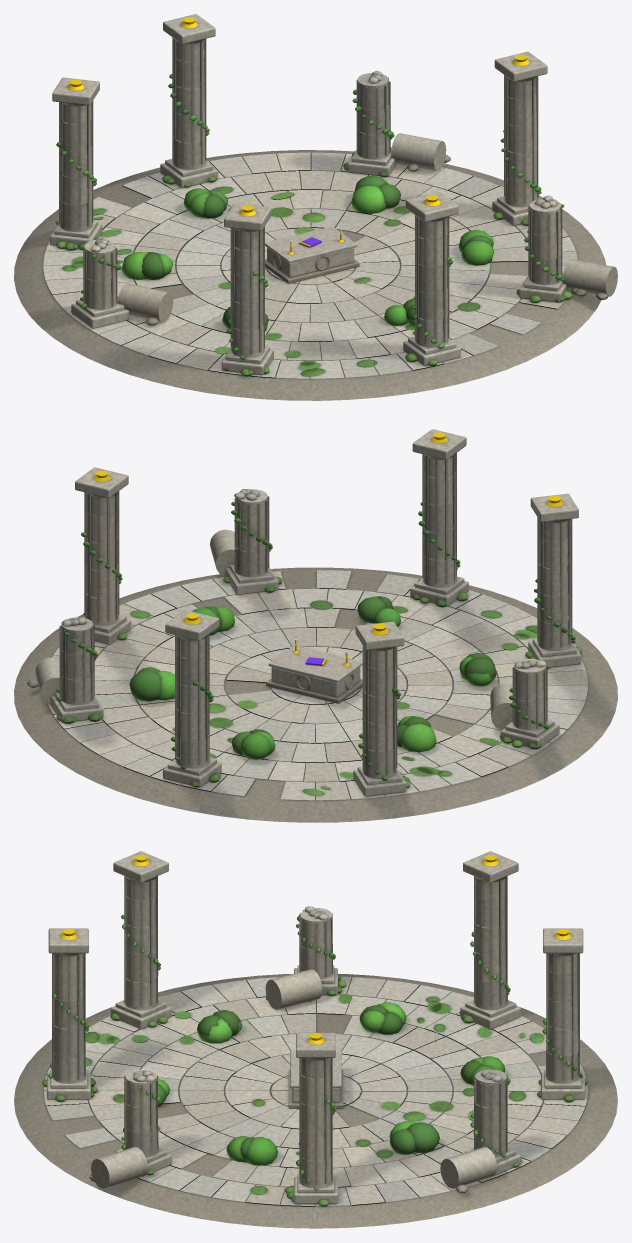
The model's file is ruins.glb.
3 views of the same model, one above another, from view 1: azimuth 30°, elevation 25°; view 2: azimuth 150°, elevation 25°; view 3: azimuth 270°, elevation 25° (orthographic).
Parts seen in each view (by area): view 1: cyl; view 2: cyl; view 3: cyl.
Boxes of the visible parts, x1,y1,x2,y2 form: cyl: (14, 14, 617, 400); cyl: (14, 429, 617, 822); cyl: (14, 851, 617, 1228).
Bounding box in the file's own units: 33 × 10.22 × 33.
Materials: 1 (1 with a texture image).
